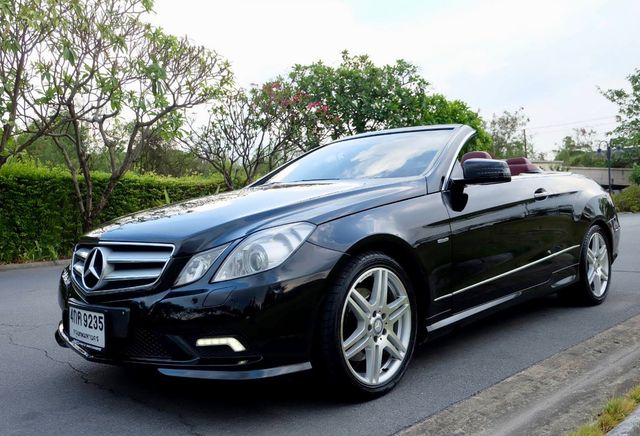sedan: (52, 126, 622, 397)
